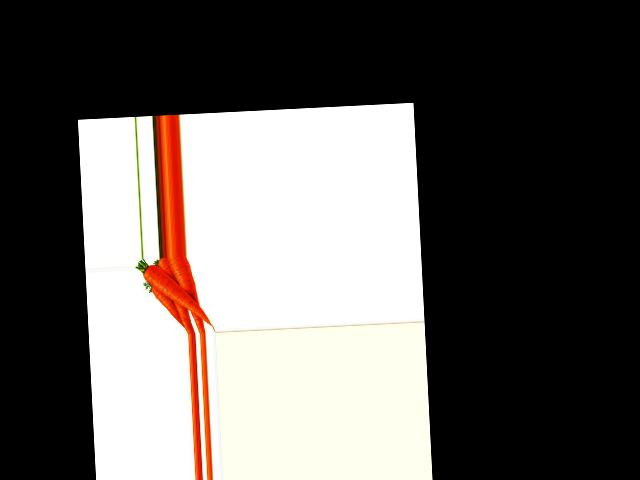carrot: (168, 255, 195, 316)
